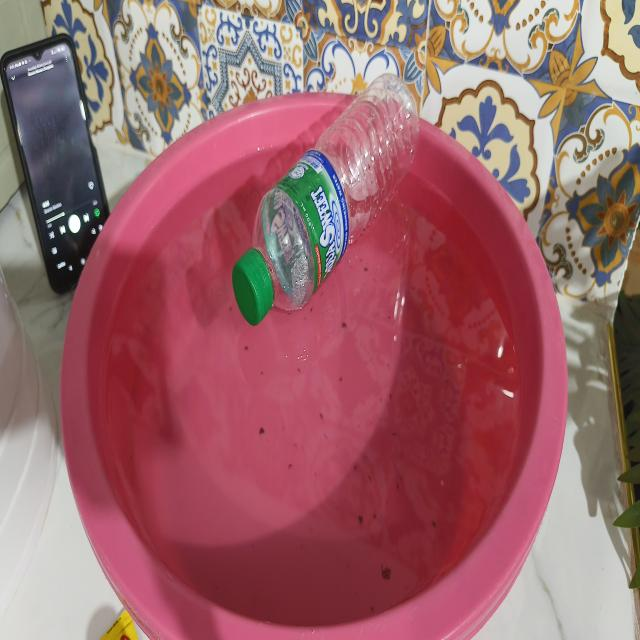Plastic Bottle: (232, 74, 419, 324)
